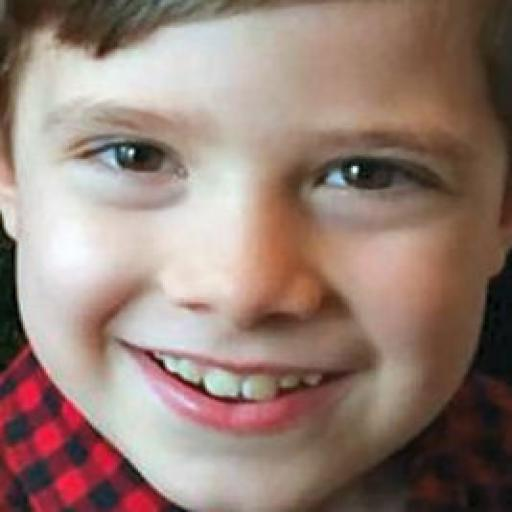Autism: (17, 0, 512, 492)
